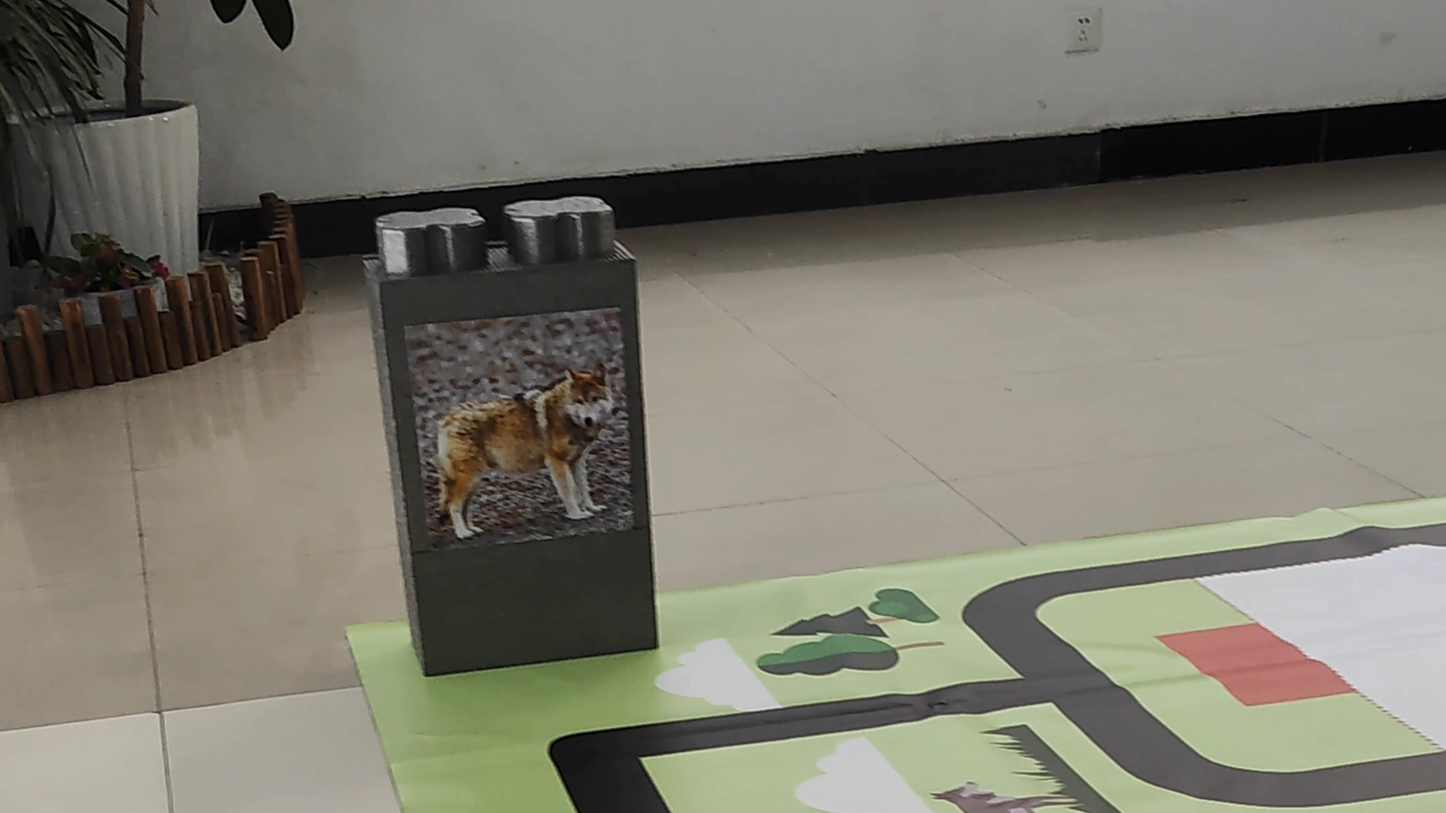wolf: (420, 329, 634, 529)
